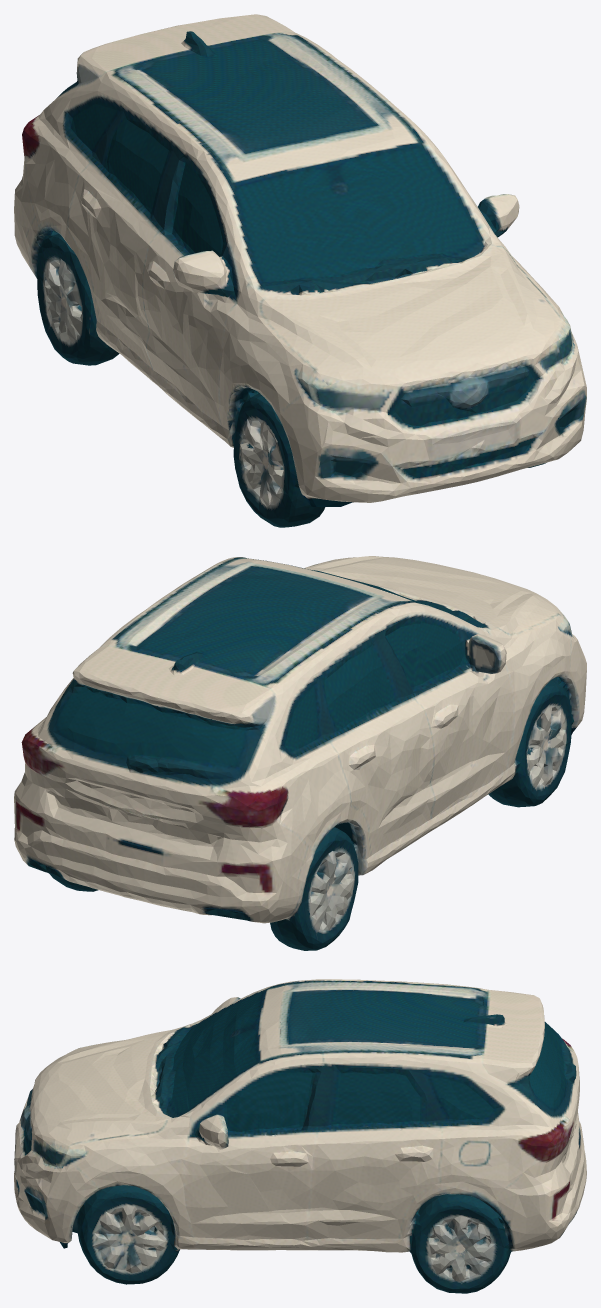
File: car_b.fbx
3 renders of one model, top to bottom at view 1: azimuth 30°, elevation 25°; view 2: azimuth 150°, elevation 25°; view 3: azimuth 270°, elevation 25°, orthographic. The views are drawn at different scales.
Parts seen in each view (by area): view 1: Mesh_0; view 2: Mesh_0; view 3: Mesh_0.
Part boxes in pixels (x1,y1,x2,y2): Mesh_0: (14,14,586,527); Mesh_0: (14,556,586,950); Mesh_0: (14,979,586,1293).
Bounding box in the file's own units: 2.13 × 1.75 × 3.98.
1 material, 1 textured.
